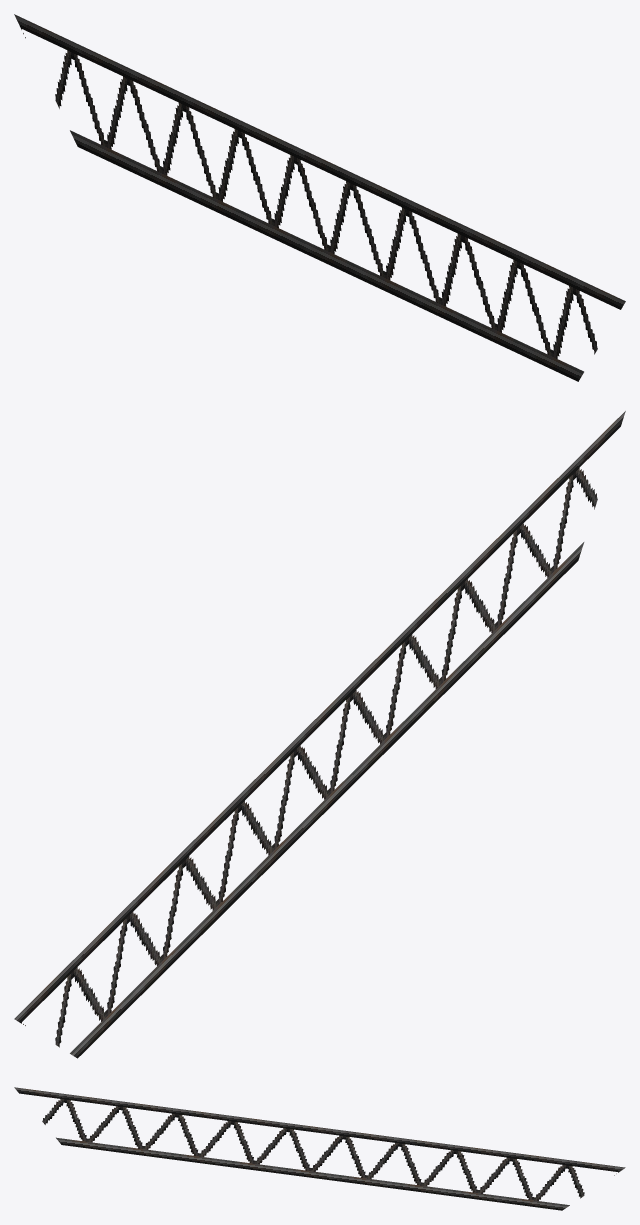
File: metal_brace.glb
The picture shows the model from 3 angles, top to bottom: view 1: azimuth 30°, elevation 25°; view 2: azimuth 150°, elevation 25°; view 3: azimuth 270°, elevation 25°; orthographic projection. The views are drawn at different scales.
Parts seen in each view (by area): view 1: Object; view 2: Object; view 3: Object.
Part boxes in pixels (left/top/right/bottom): Object: left=14, top=14, right=625, bottom=381; Object: left=14, top=411, right=625, bottom=1058; Object: left=14, top=1087, right=625, bottom=1210.
Size of the model in its own units: 0 by 0.4742 by 2.13.
1 material, 1 textured.
